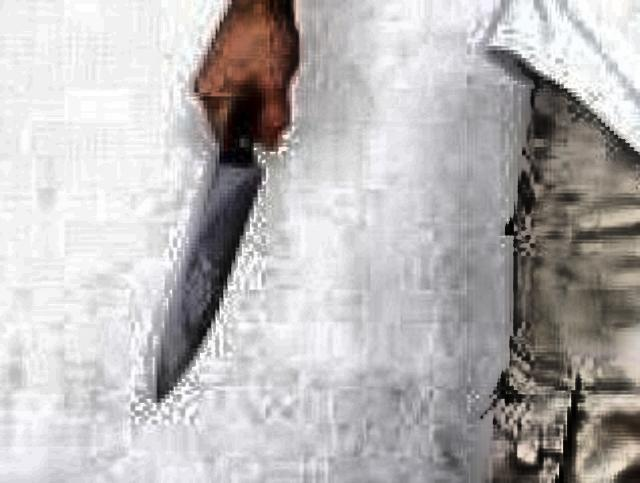knife: (139, 67, 297, 427)
